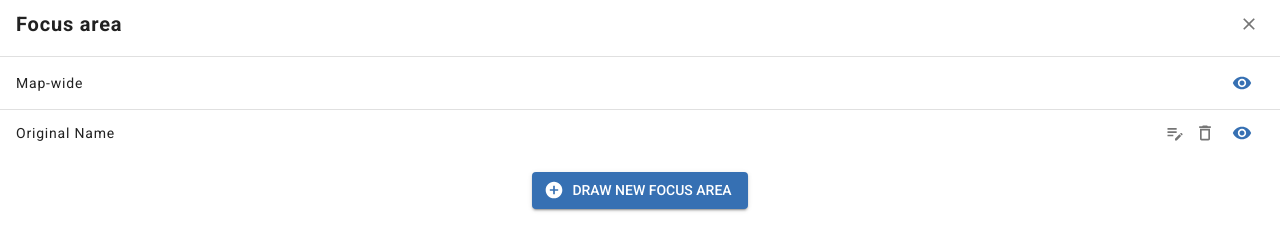
Test case: FocusAreaView › Focus Area Actions › shows error when name is empty on blur
Check: the text "Original Name" is shown, box x1=16 y1=125 x2=115 y2=141
Click the button named "Edit focus area name". click: (1175, 133)
box: x1=1160 y1=118 x2=1190 y2=148
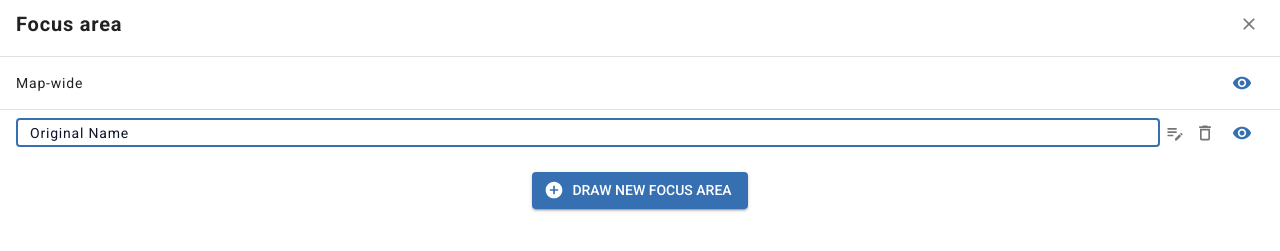
Clear the field showing "Original Name". click: (588, 133)
box: x1=16 y1=119 x2=1160 y2=147
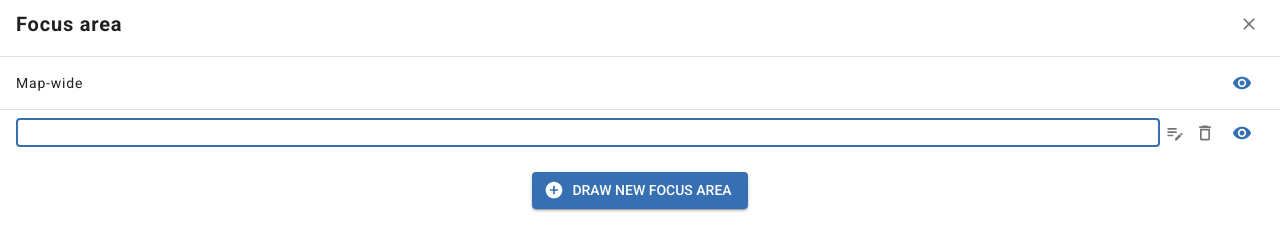
Leave the field showing "Original Name", box x1=16 y1=119 x2=1160 y2=147
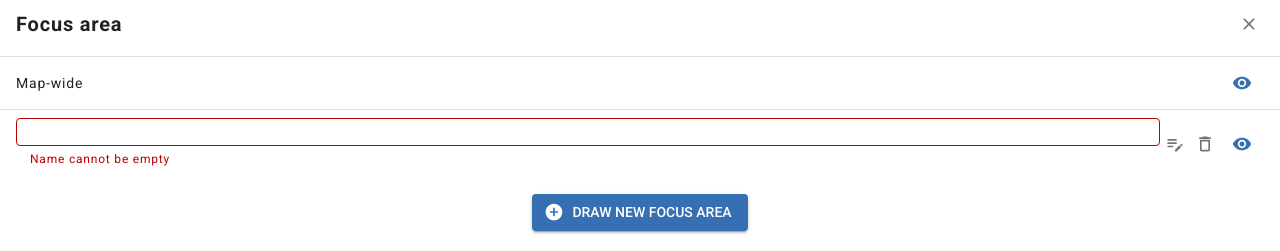
Check: the text "Name cannot be empty" is shown, box x1=30 y1=152 x2=170 y2=166
